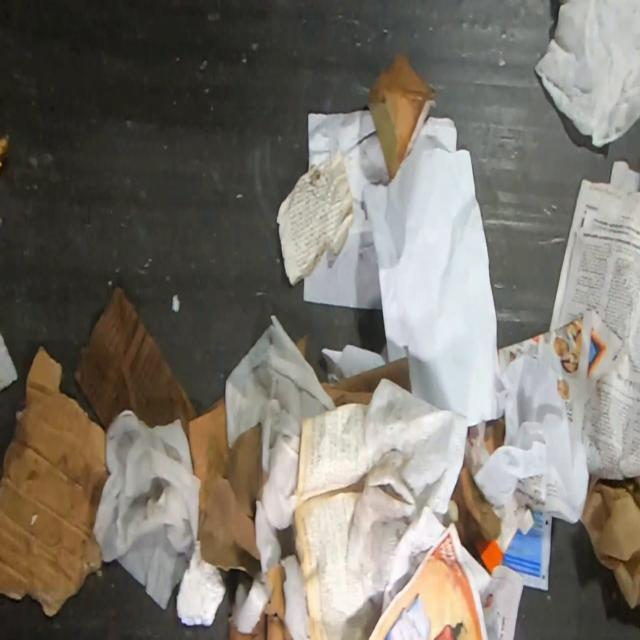cardboard: (186, 394, 312, 639), (0, 344, 111, 618), (72, 285, 200, 437), (366, 50, 437, 183), (320, 357, 411, 408), (295, 333, 310, 361)
soft_plastic: (533, 0, 640, 150)
